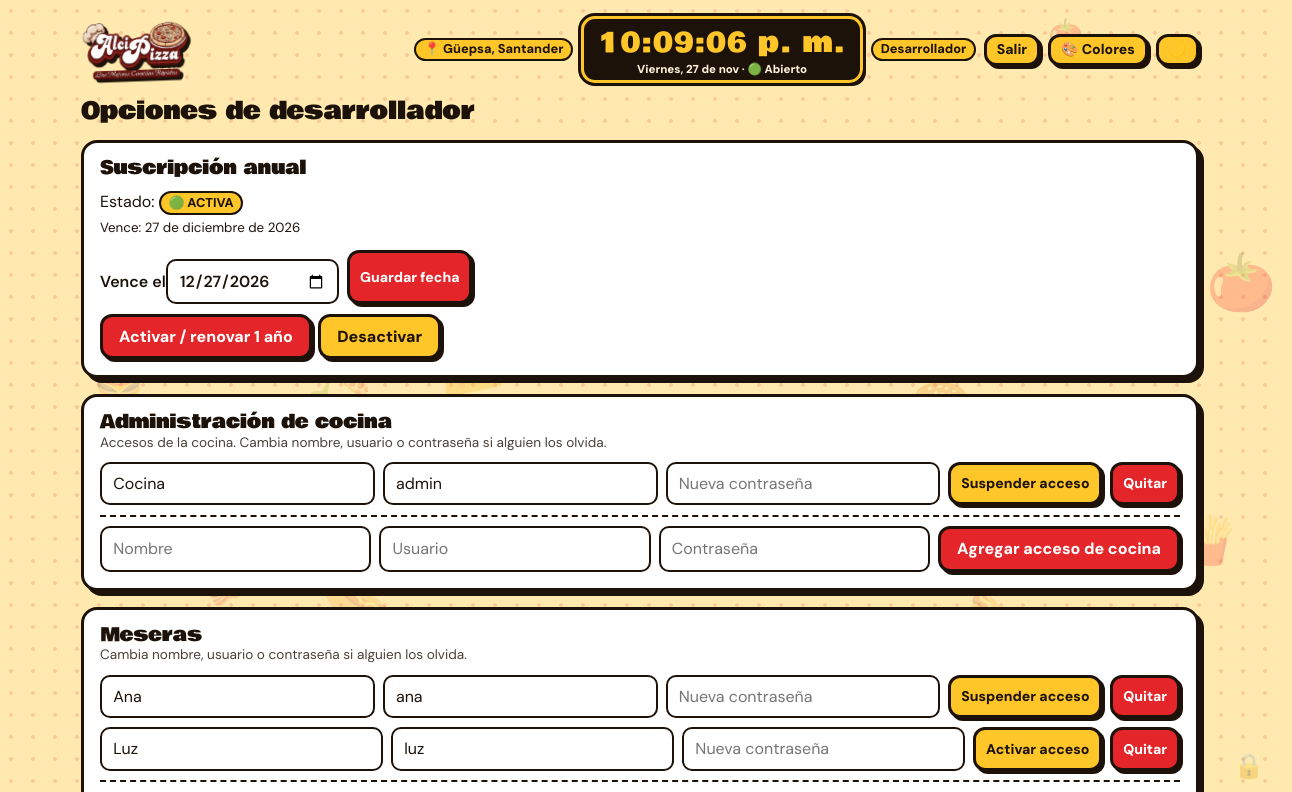
Test: DevPage · accesos › guarda el nombre al salir del campo y no deja valores vacíos
Clear the 2nd field named "Nombre" at (237, 696), box 100,675 -> 375,718
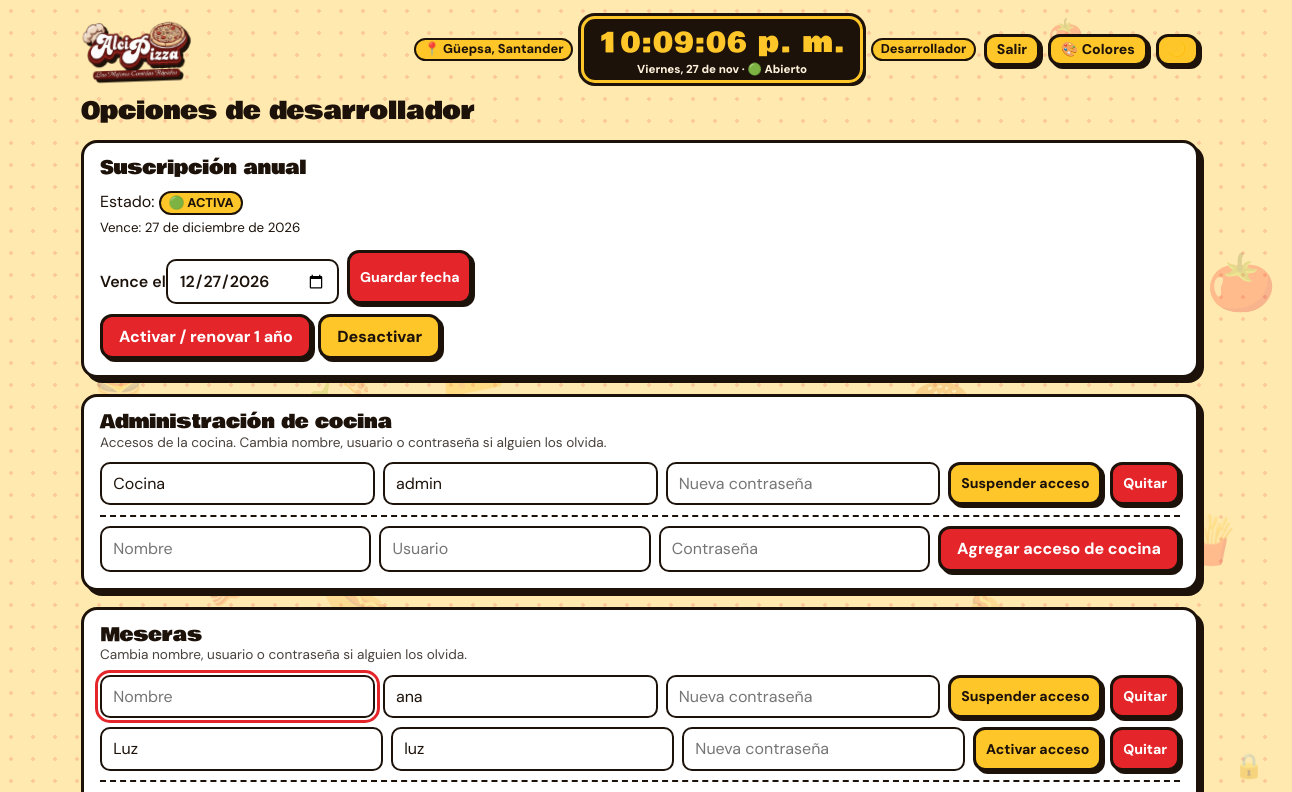
Press Tab
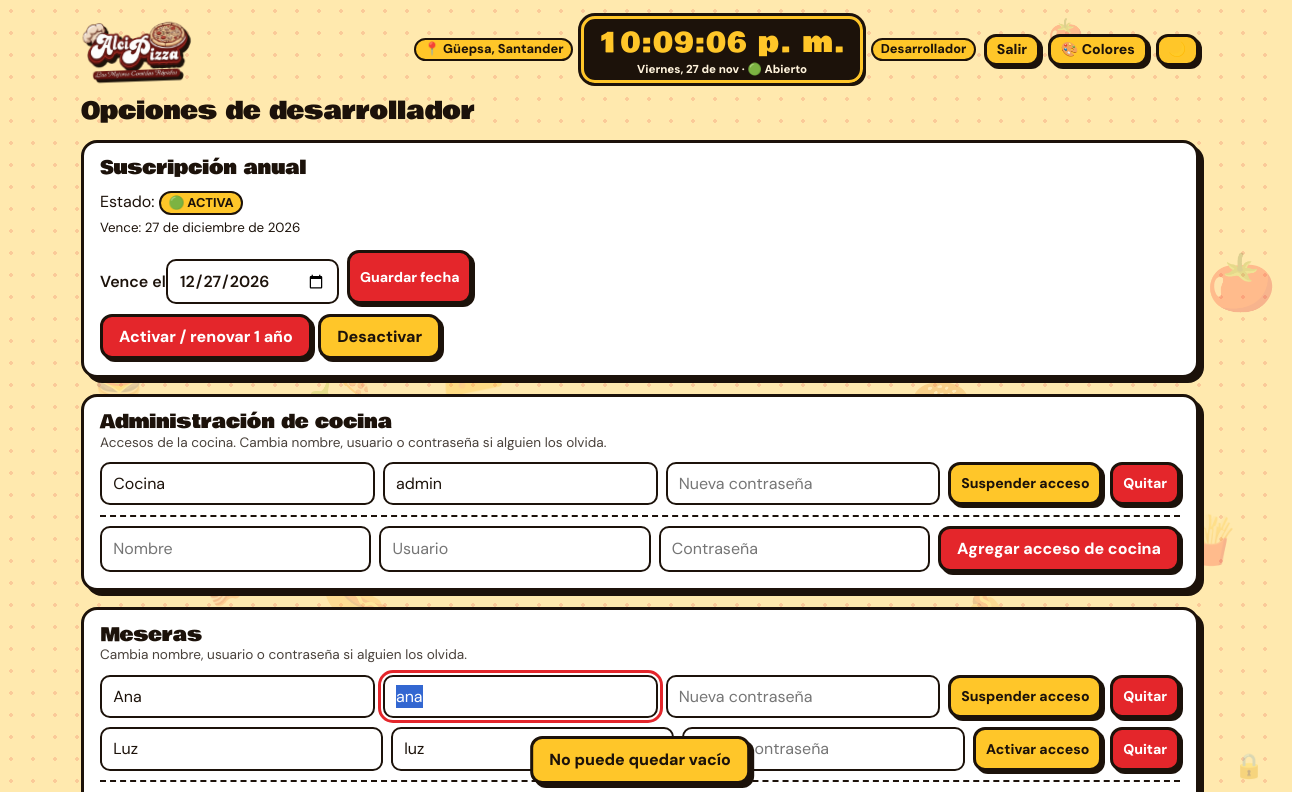
Now the message reads "No puede quedar vacío", box 549,749 -> 731,770
Now the 2nd field named "Nombre" holds "Ana"
Replace the text in the 2nd field named "Nombre" with "Ana María" at (237, 696), box 100,675 -> 375,718
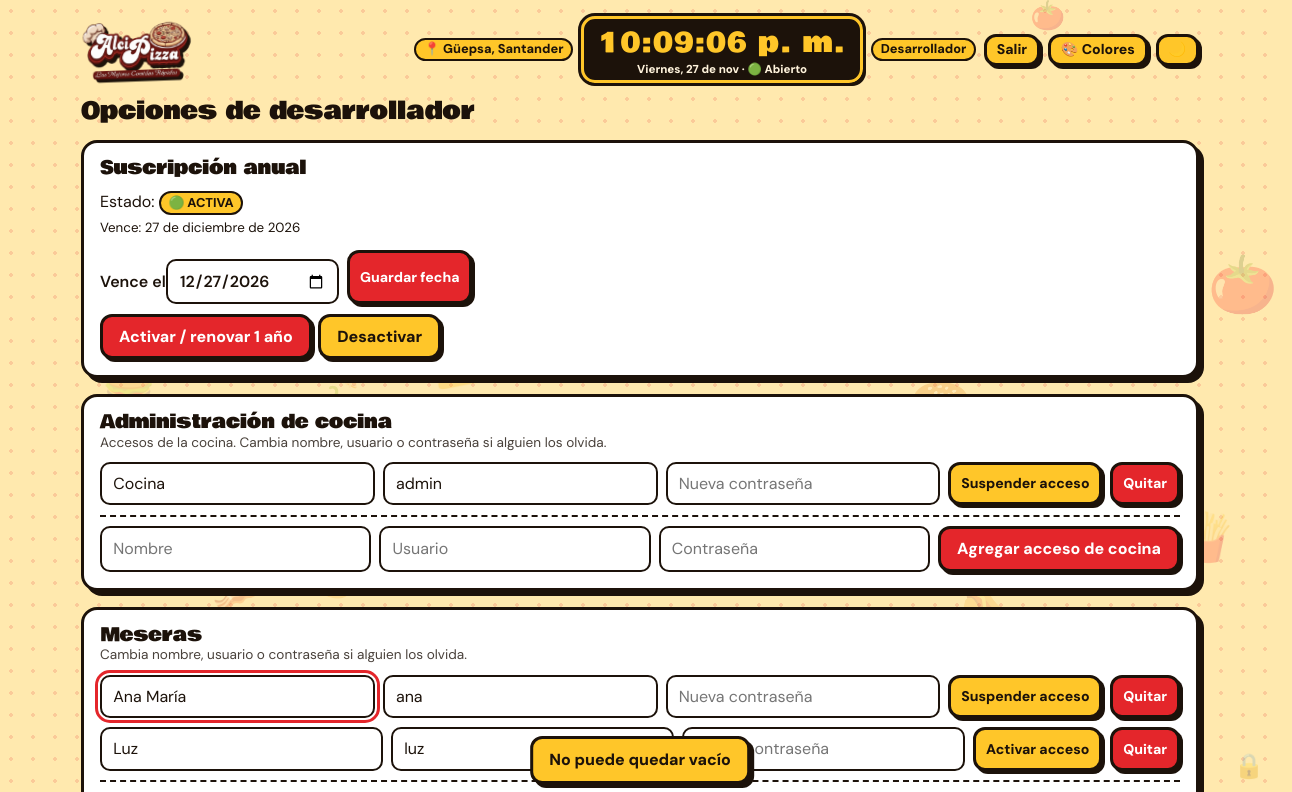
Press Tab
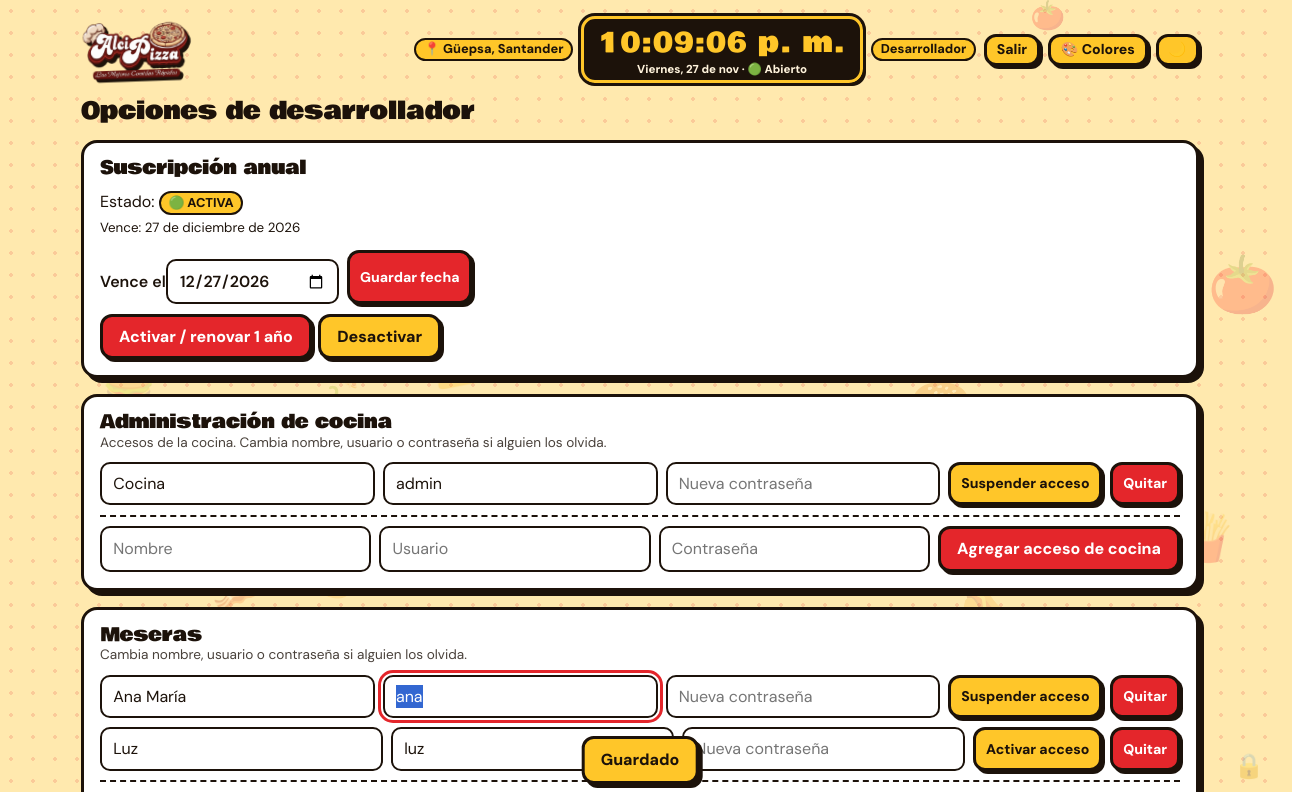
Now the text "Guardado" is shown, box 582,736 -> 698,784
